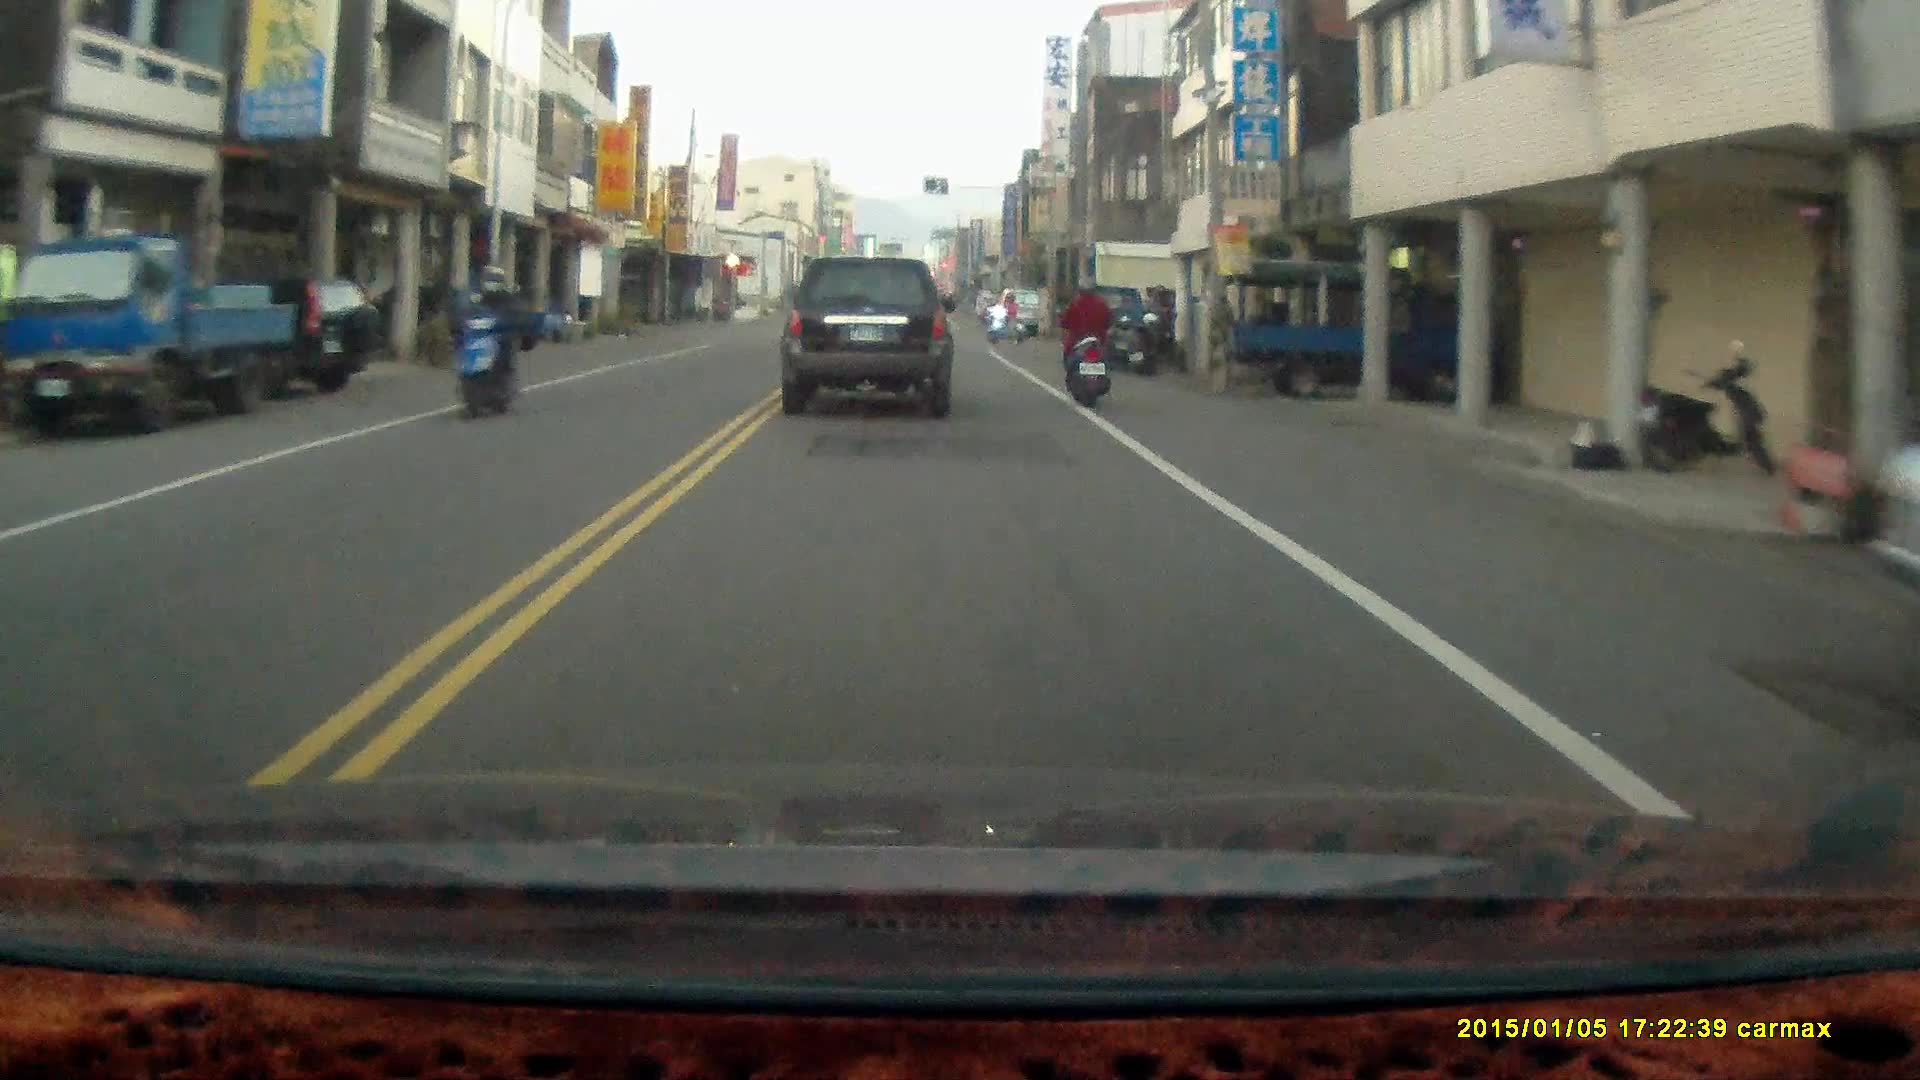rider: (450, 266, 525, 422), (1059, 273, 1112, 407), (985, 294, 1024, 343)
vehicle: (11, 237, 291, 439), (1225, 268, 1505, 412), (780, 256, 957, 423), (181, 274, 389, 401)
